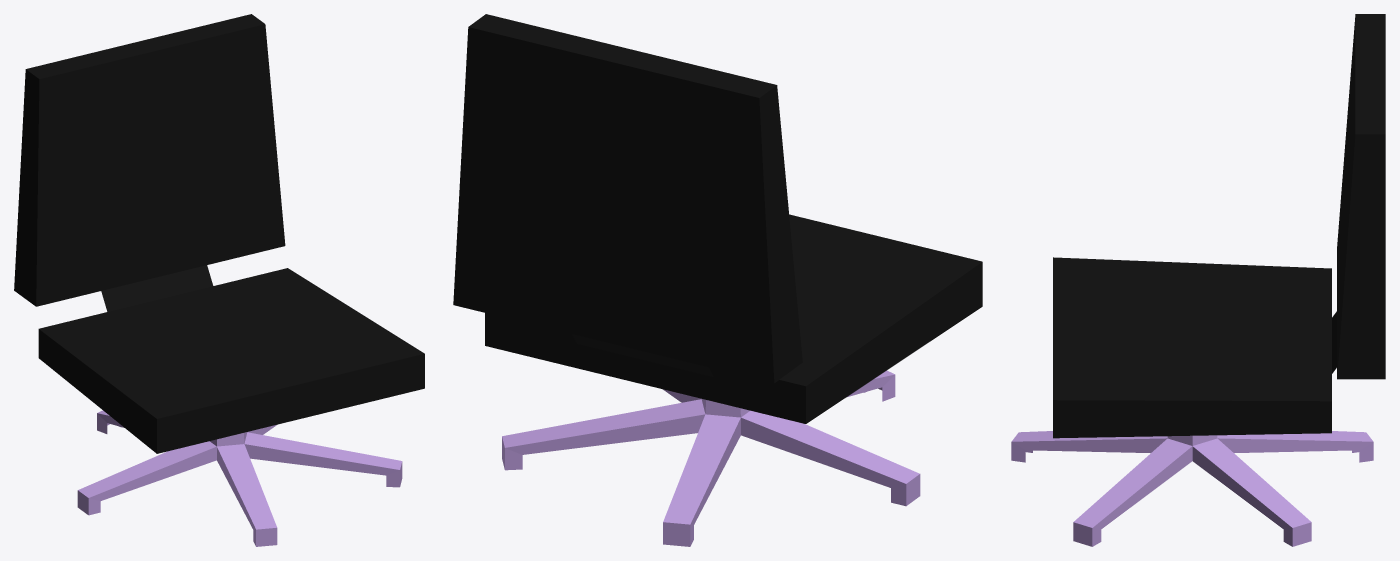
The model's file is model_Chair_Office.fbx.
3 views of the same model, side by side, from view 1: azimuth 30°, elevation 25°; view 2: azimuth 150°, elevation 25°; view 3: azimuth 270°, elevation 25° (orthographic). The views are drawn at different scales.
Visible parts, largest first — view 1: Chair_Office; view 2: Chair_Office; view 3: Chair_Office.
Boxes of the visible parts, x1=… form: Chair_Office: x1=14, y1=14, x2=424, y2=546; Chair_Office: x1=453, y1=14, x2=982, y2=546; Chair_Office: x1=1011, y1=14, x2=1385, y2=546.
Bounding box in the file's own units: 8345 × 10622 × 8914.
